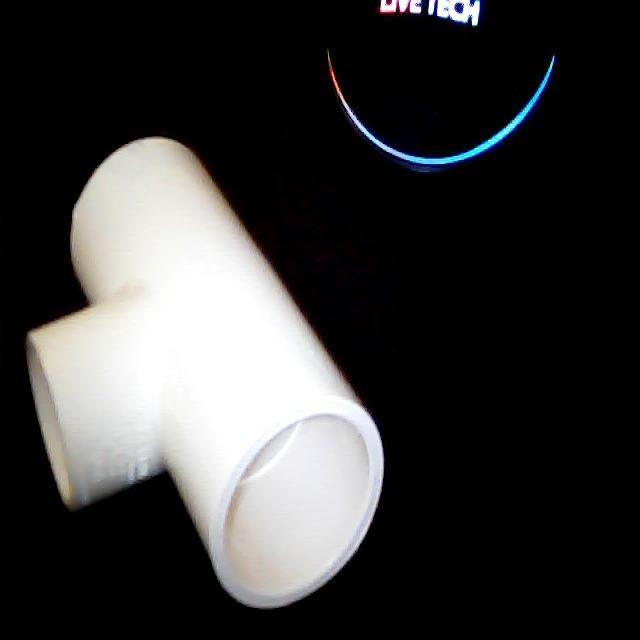T Joint: (30, 137, 384, 613)
